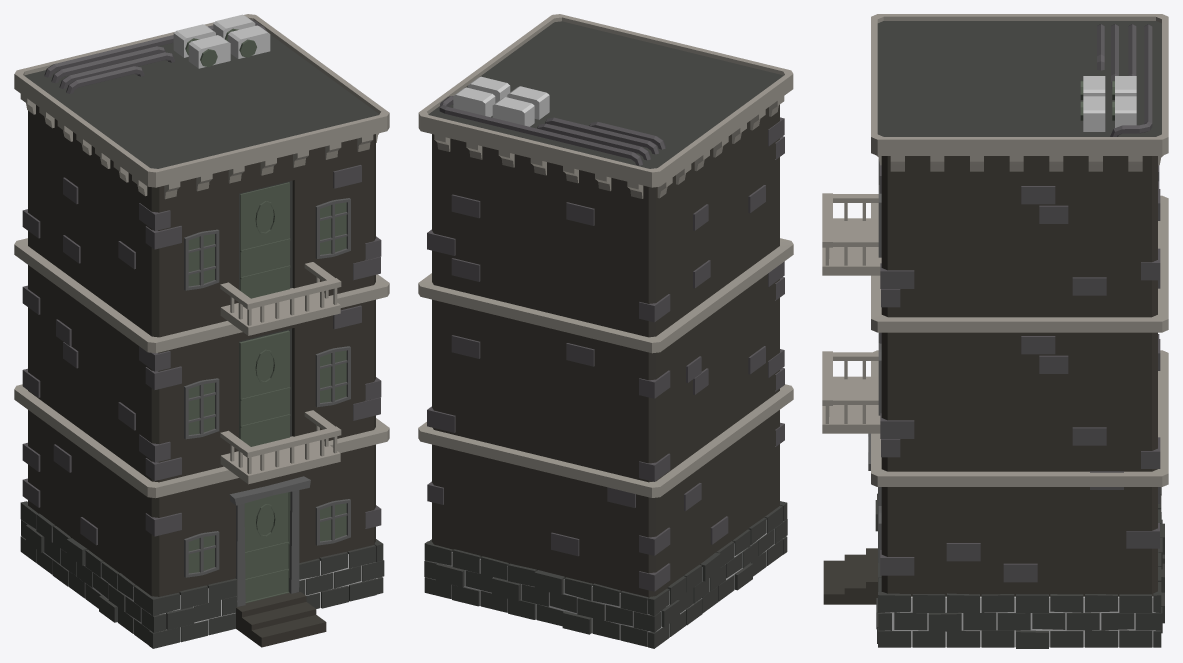
File: 3Story_Balcony.glb
3 renders of one model, left to right at view 1: azimuth 30°, elevation 25°; view 2: azimuth 150°, elevation 25°; view 3: azimuth 270°, elevation 25°, orthographic. The views are drawn at different scales.
Visible parts, largest first — view 1: 3Story_Balcony; view 2: 3Story_Balcony; view 3: 3Story_Balcony.
Boxes of the visible parts, x1,y1,x2,y2 form: 3Story_Balcony: [14, 14, 389, 648]; 3Story_Balcony: [418, 14, 793, 648]; 3Story_Balcony: [822, 14, 1168, 648].
Size of the model in its own units: 2.16 by 4.21 by 2.51.
1 material, 1 textured.
